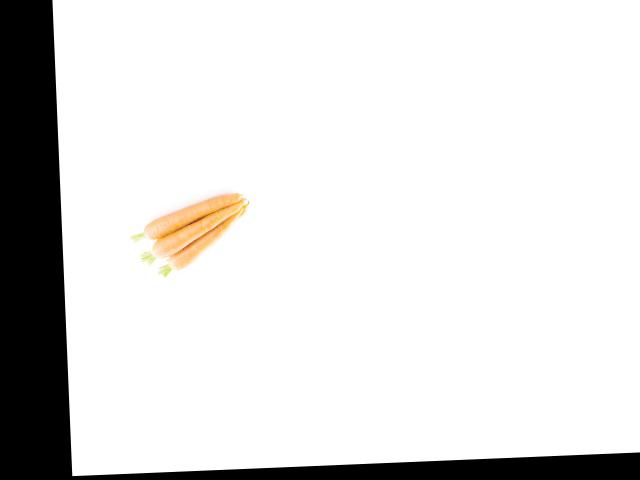carrot: (133, 191, 241, 242)
